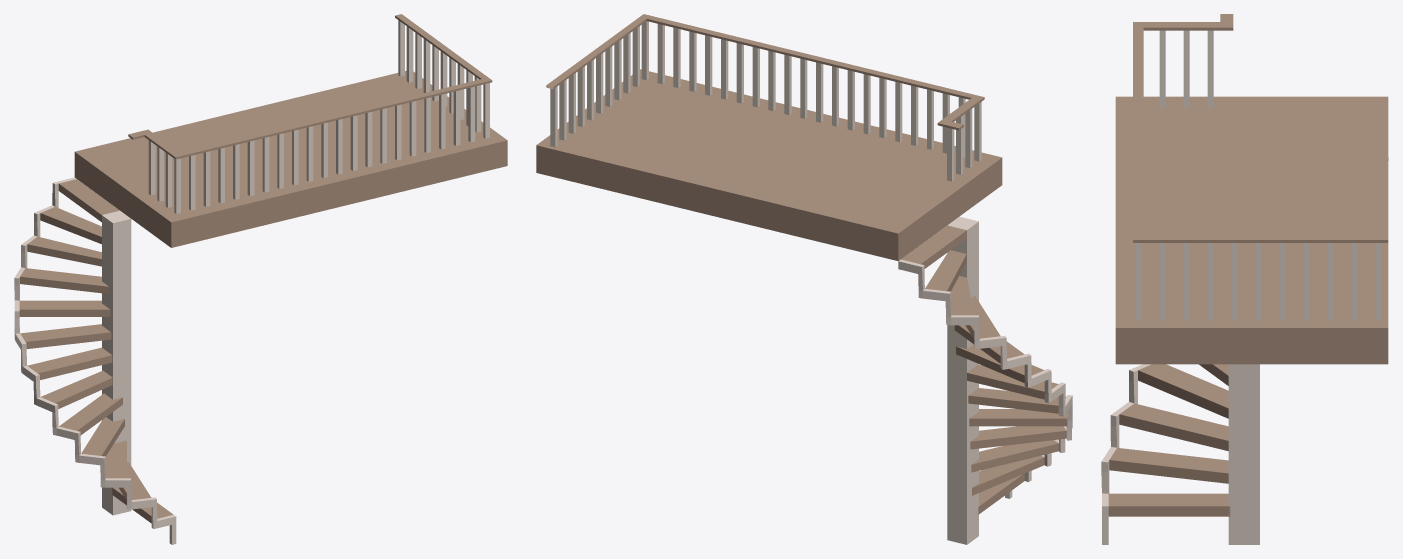
Rendered from Balcony.fbx.
3 renders of one model, left to right at view 1: azimuth 30°, elevation 25°; view 2: azimuth 150°, elevation 25°; view 3: azimuth 270°, elevation 25°, orthographic. The views are drawn at different scales.
Parts seen in each view (by area): view 1: Balcony; view 2: Balcony; view 3: Balcony.
Boxes of the visible parts, <box> form: Balcony: <box>14,14,507,544</box>; Balcony: <box>536,14,1072,544</box>; Balcony: <box>1101,14,1388,544</box>.
Size of the model in its own units: 531 by 216 by 440.
